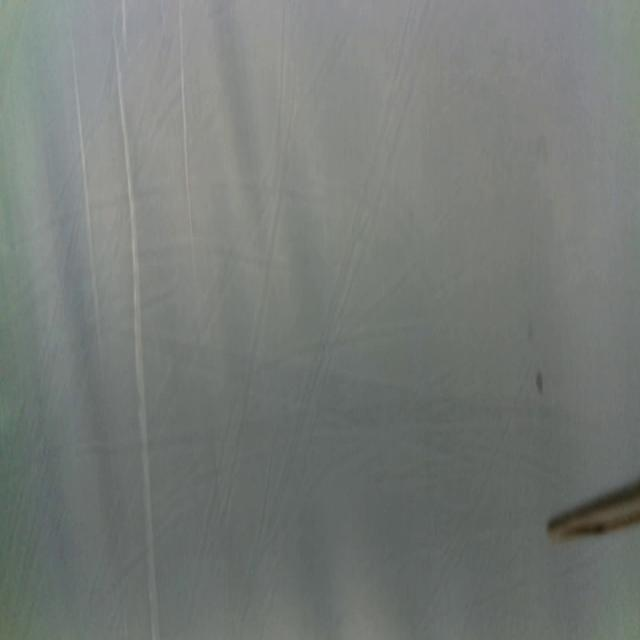crease: (113, 36, 160, 640), (70, 34, 102, 363), (178, 2, 197, 279), (121, 0, 129, 50)
